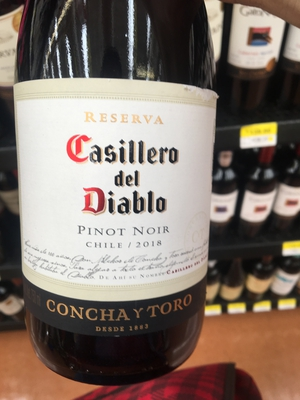casillero del diablo pinot noir: (10, 17, 238, 400)
